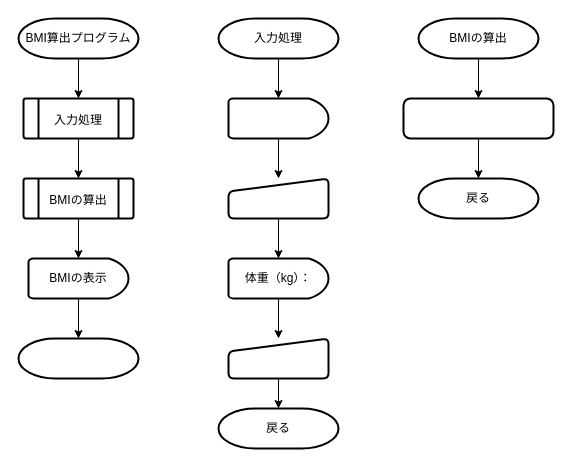
Image size: 571x466. Some labels were removed from this diagram. The box of each missing label's shape, as (x1, y1, x2, y2) in pixels:
BMI = 体重 / (身長 * 身長): (402, 97, 554, 139)
体重: (227, 337, 329, 379)
終了: (17, 337, 139, 379)
身長: (227, 177, 329, 219)
身長（m）：: (227, 97, 329, 139)
